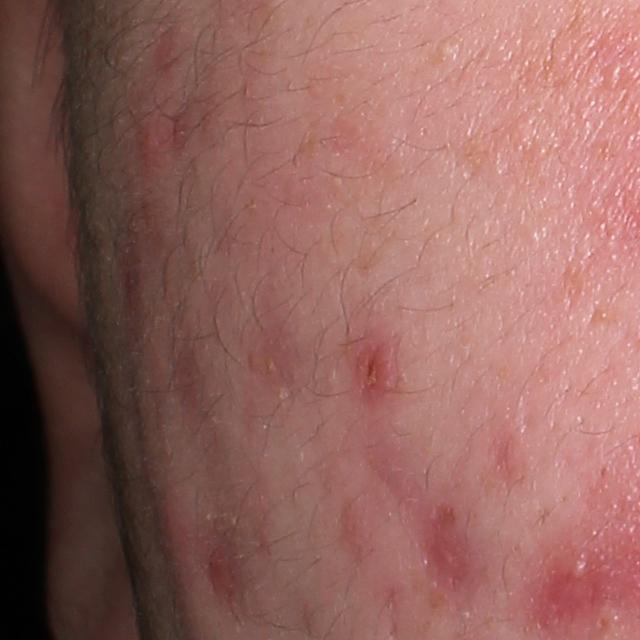atrophic_scar: (417, 496, 487, 595), (204, 510, 257, 615)
comedo: (433, 34, 466, 60)
papule: (350, 336, 396, 406), (130, 109, 172, 166)
